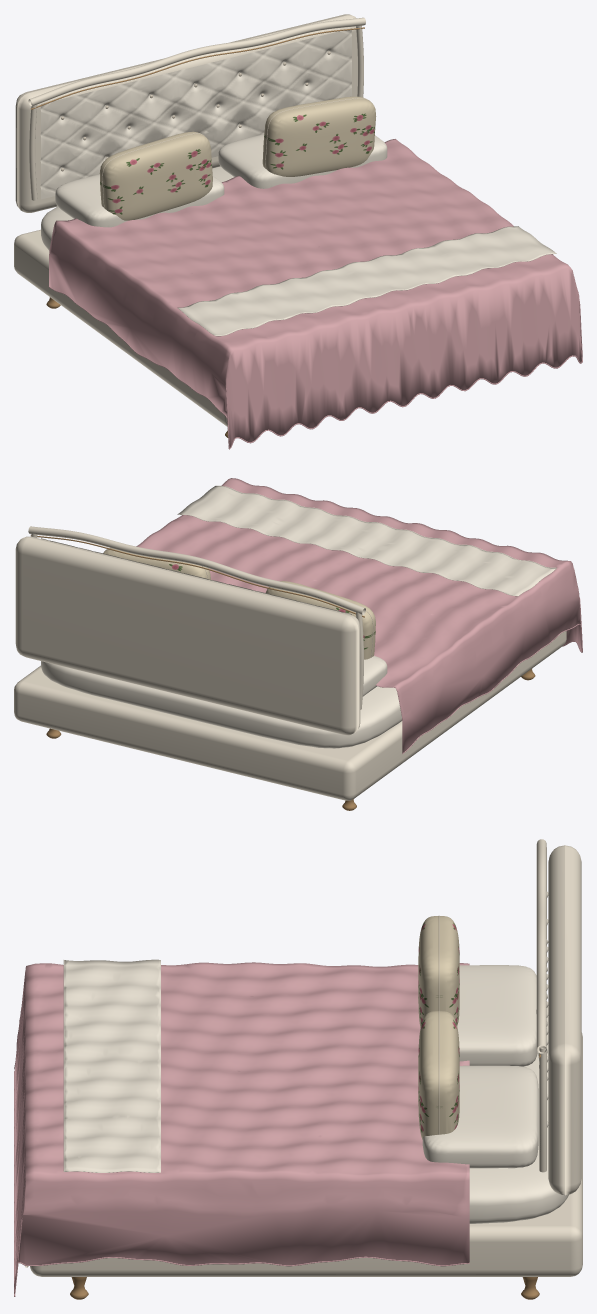
File: bed.glb
3 views of the same model, one above another, from view 1: azimuth 30°, elevation 25°; view 2: azimuth 150°, elevation 25°; view 3: azimuth 270°, elevation 25° (orthographic). The views are drawn at different scales.
Parts seen in each view (by area): view 1: bed__Dusty rose washed cotton, bed__Natural cream linen, bed__Rose botanical print on linen, bed__Warm aged ivory lacquer, bed__Honey ash exposed edges; view 2: bed__Warm aged ivory lacquer, bed__Dusty rose washed cotton, bed__Natural cream linen, bed__Rose botanical print on linen, bed__Honey ash exposed edges; view 3: bed__Dusty rose washed cotton, bed__Natural cream linen, bed__Warm aged ivory lacquer, bed__Rose botanical print on linen, bed__Honey ash exposed edges.
Boxes of the visible parts, left/top/right/bottom form: bed__Dusty rose washed cotton: left=49, top=139, right=582, bottom=449; bed__Natural cream linen: left=40, top=28, right=556, bottom=336; bed__Rose botanical print on linen: left=99, top=96, right=376, bottom=220; bed__Warm aged ivory lacquer: left=14, top=14, right=365, bottom=426; bed__Honey ash exposed edges: left=31, top=27, right=364, bottom=437; bed__Warm aged ivory lacquer: left=14, top=526, right=566, bottom=800; bed__Dusty rose washed cotton: left=136, top=478, right=582, bottom=754; bed__Natural cream linen: left=41, top=485, right=556, bottom=748; bed__Rose botanical print on linen: left=103, top=548, right=375, bottom=659; bed__Honey ash exposed edges: left=30, top=535, right=535, bottom=810; bed__Dusty rose washed cotton: left=14, top=962, right=469, bottom=1296; bed__Natural cream linen: left=63, top=891, right=568, bottom=1223; bed__Warm aged ivory lacquer: left=25, top=839, right=582, bottom=1276; bed__Rose botanical print on linen: left=418, top=916, right=459, bottom=1139; bed__Honey ash exposed edges: left=70, top=1054, right=540, bottom=1299.
Bounding box in the file's own units: 1.87 × 1.1 × 2.06.
7 materials, 1 textured.
